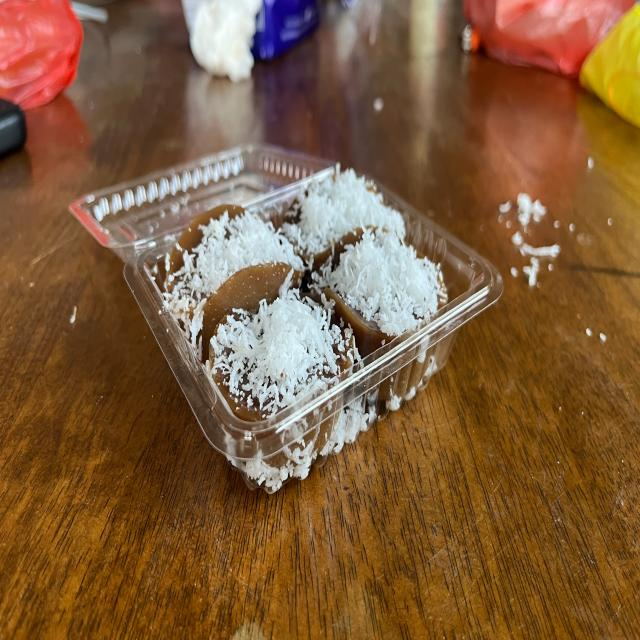Kuih lompang: (209, 269, 359, 420), (165, 204, 304, 360), (314, 213, 448, 358)
